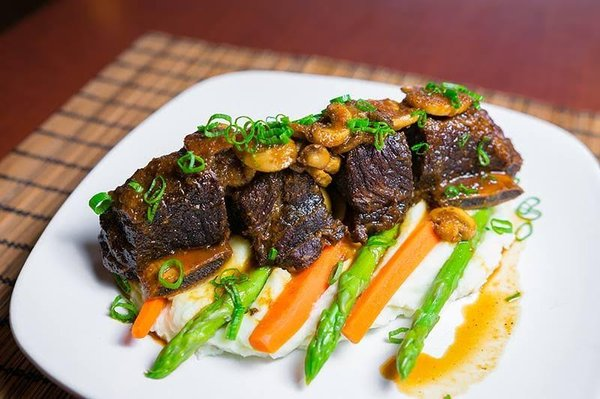curry: (1, 11, 598, 393)
pizza: (340, 211, 441, 345), (249, 238, 361, 356), (131, 297, 170, 340)
